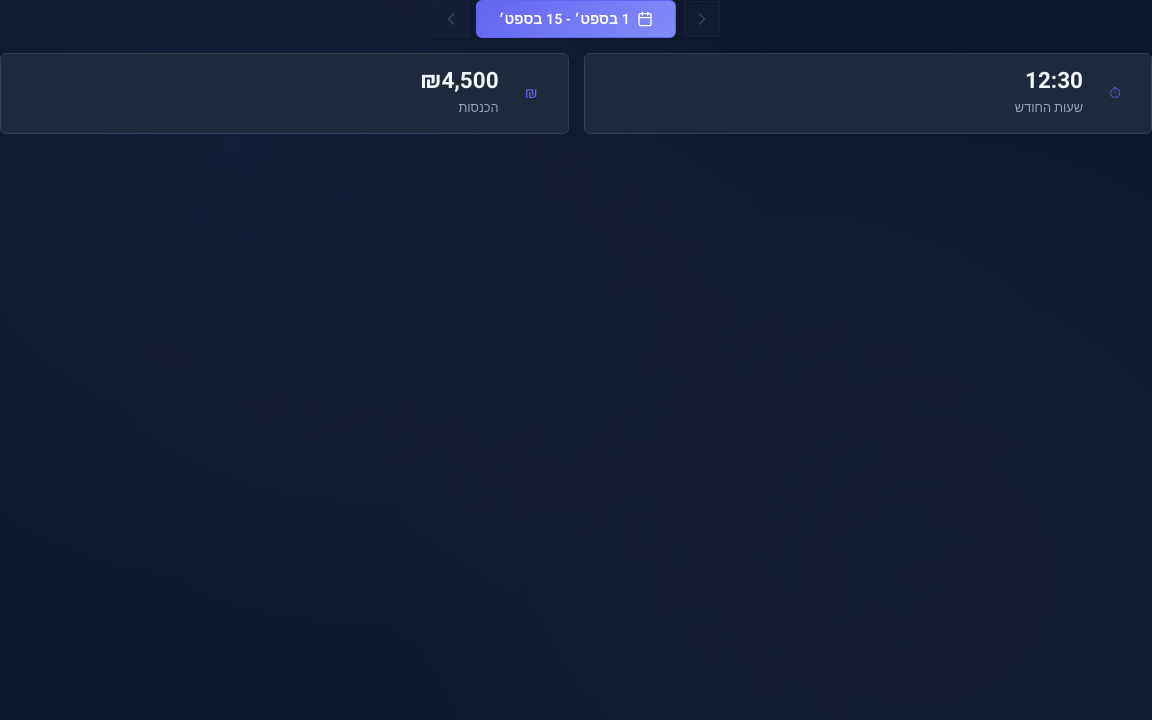
Test case: StatsBar - date range modal › pre-fills the active custom range
Click the button titled "בחר טווח תאריכים": point(576, 19) [476,0,676,38]
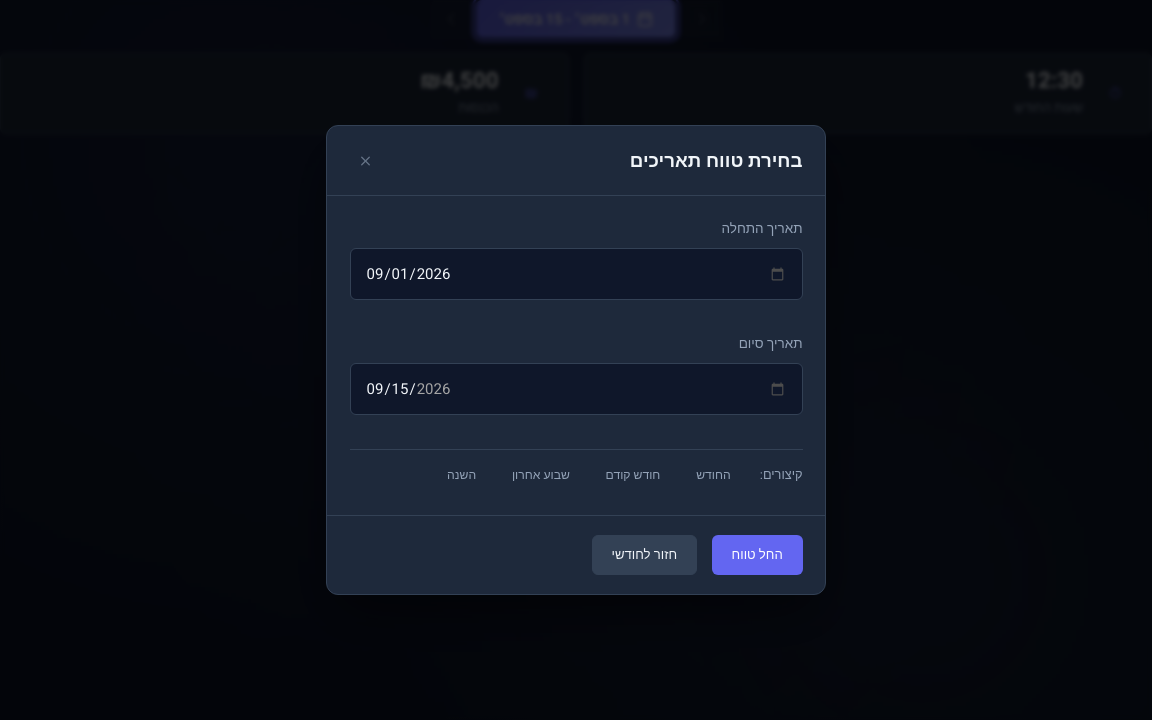
Result: the date field below "תאריך התחלה" holds "2026-09-01" at [350,248,802,300]
Result: the date field below "תאריך סיום" holds "2026-09-15" at [350,363,802,415]
